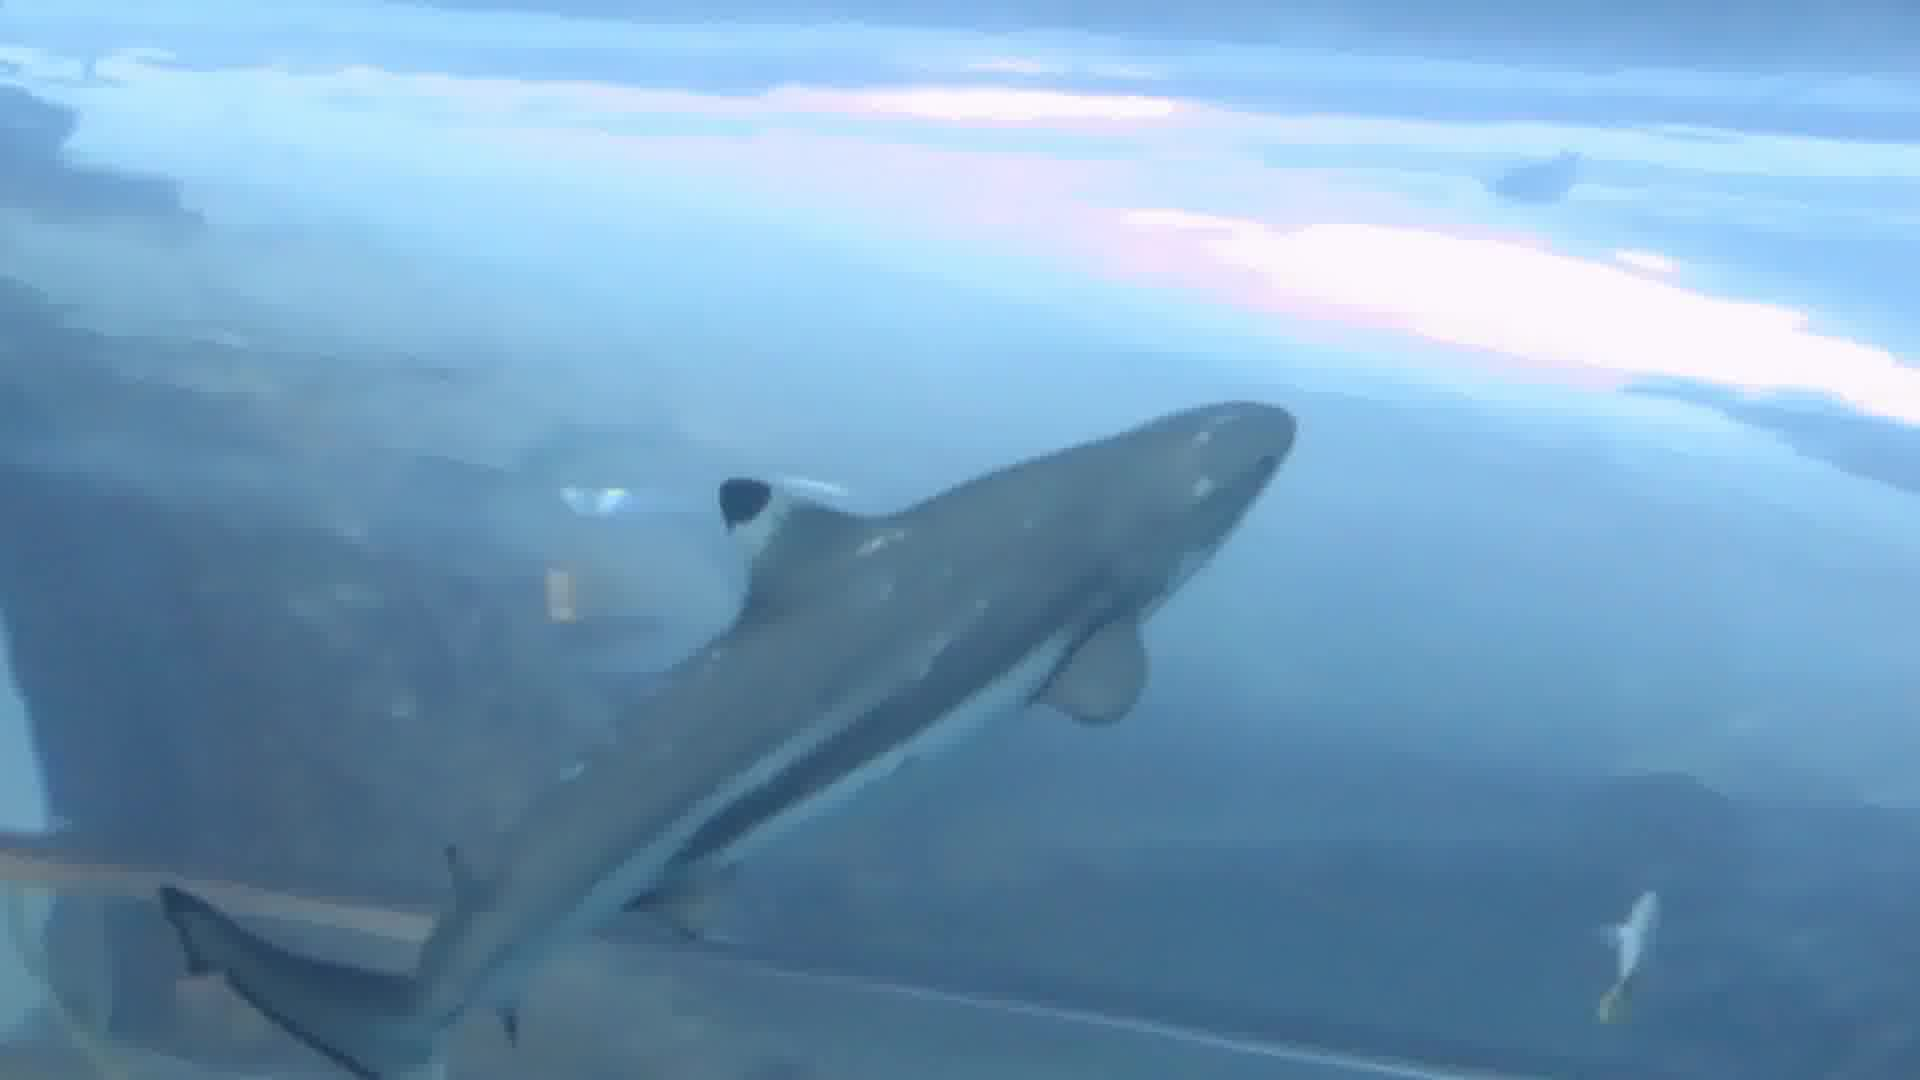Carcharhinus melanopterus: (1, 389, 1331, 1064)
